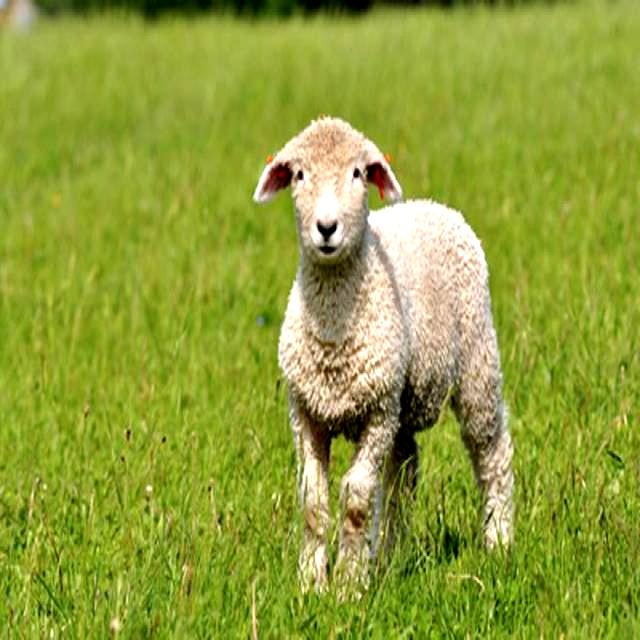sheep: (255, 120, 510, 596)
